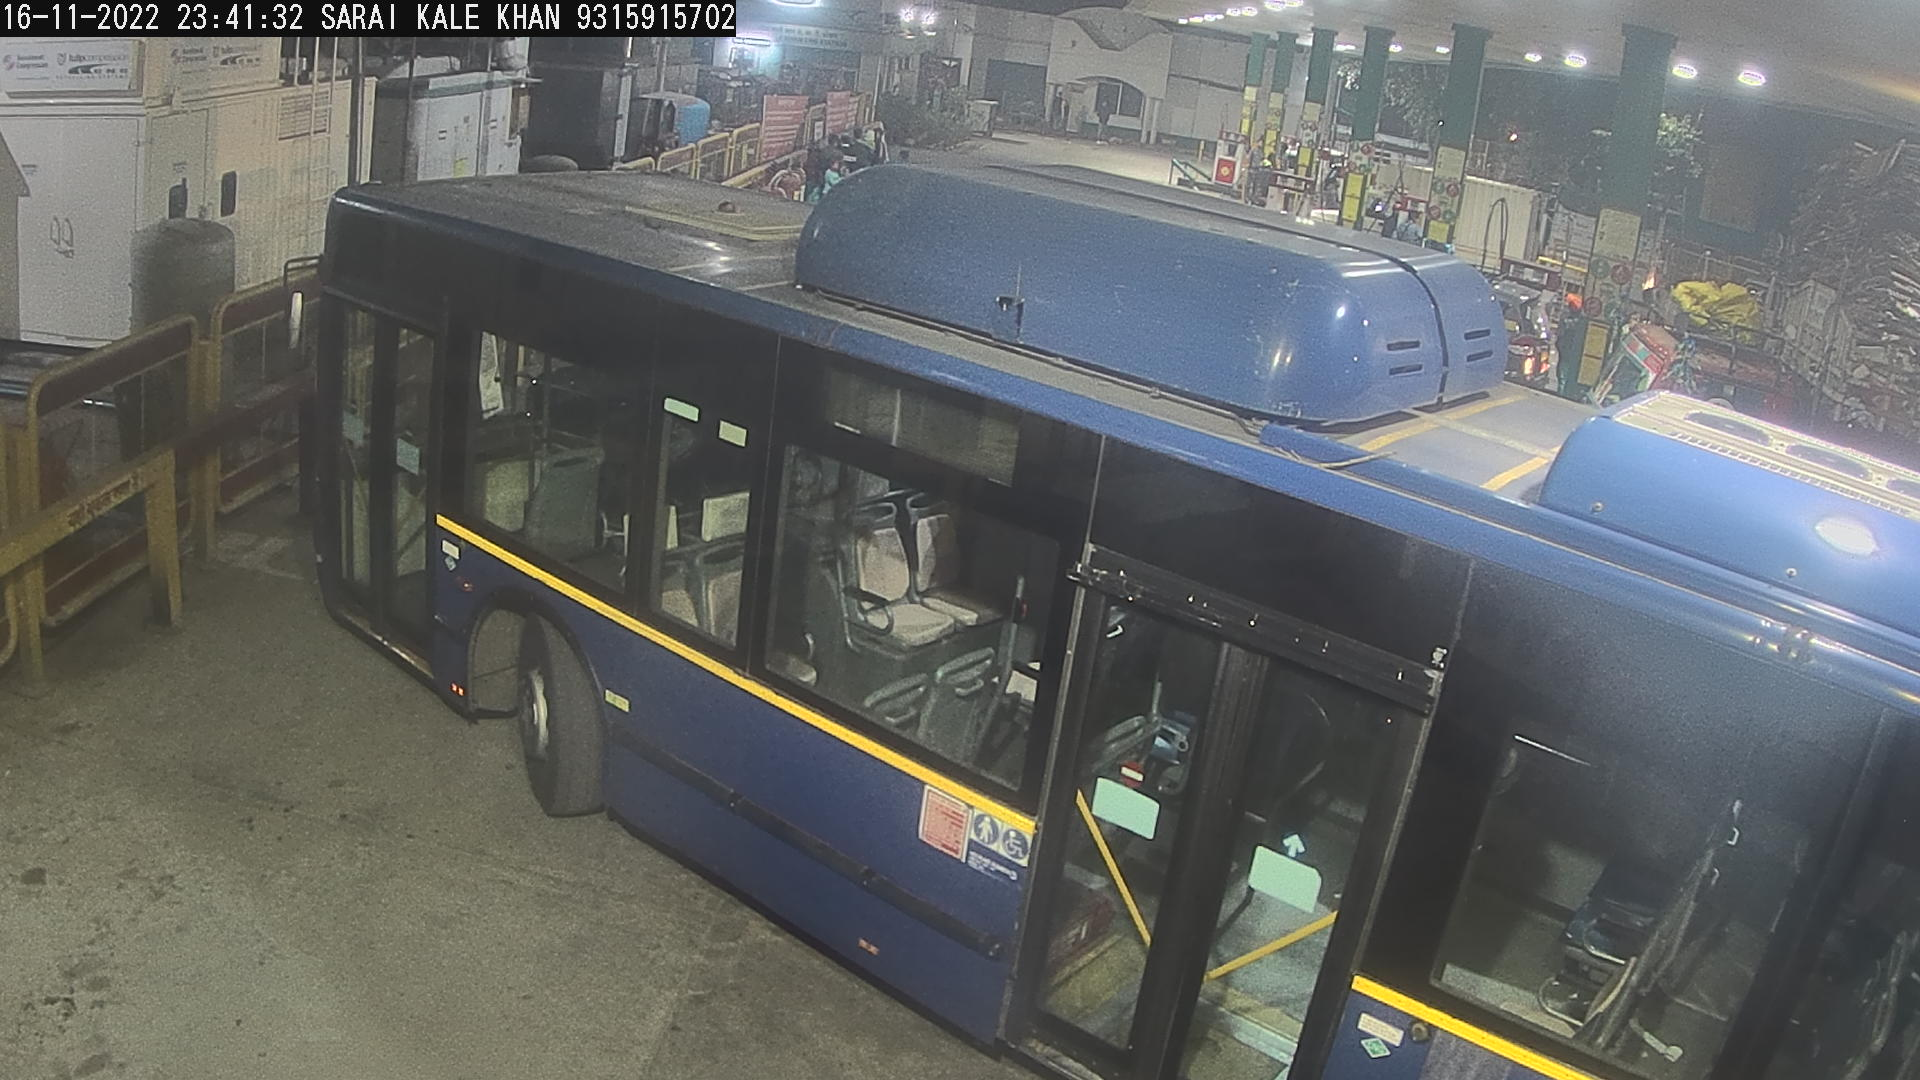Car: (1468, 257, 1586, 413)
HMV: (249, 109, 1917, 1077), (1556, 125, 1908, 521), (1280, 146, 1565, 314)
Others: (1553, 274, 1586, 404)
